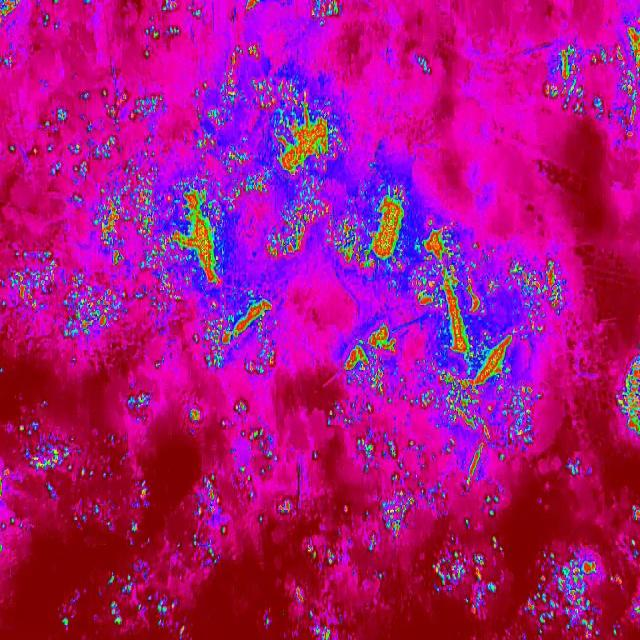fire: (0, 0, 345, 376), (2, 390, 298, 640), (324, 183, 566, 456), (303, 451, 640, 639), (545, 6, 640, 144), (616, 350, 640, 442)
